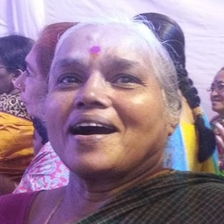no_mask: (54, 47, 161, 169), (209, 70, 224, 108)
